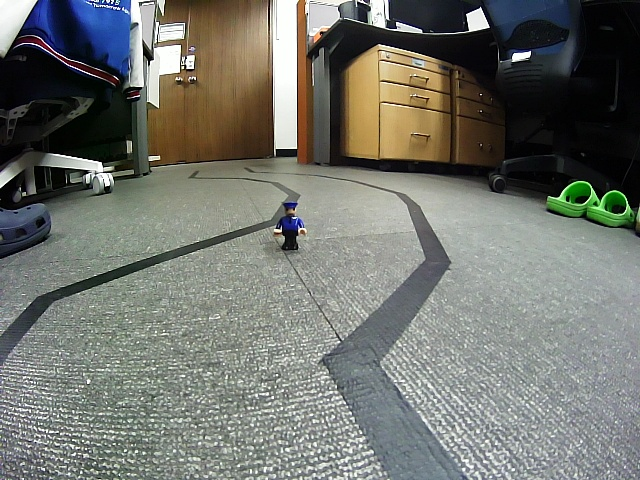person: (273, 203, 306, 250)
